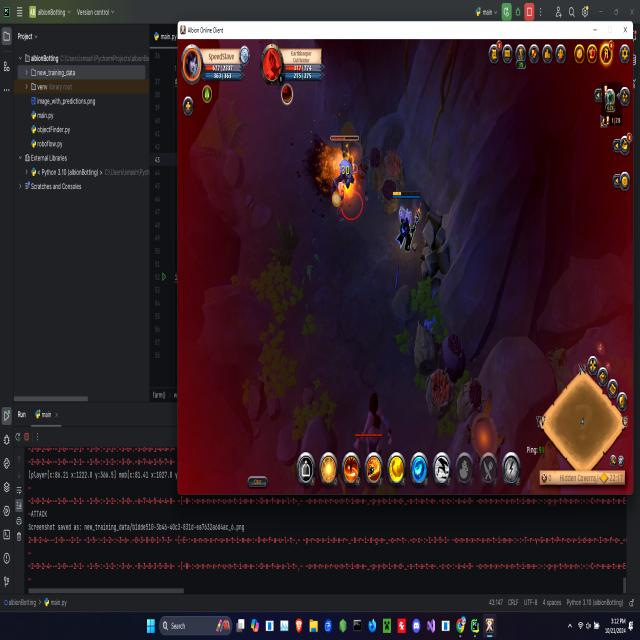ore: (348, 386, 400, 484), (324, 129, 369, 230)
red: (387, 184, 422, 252)
